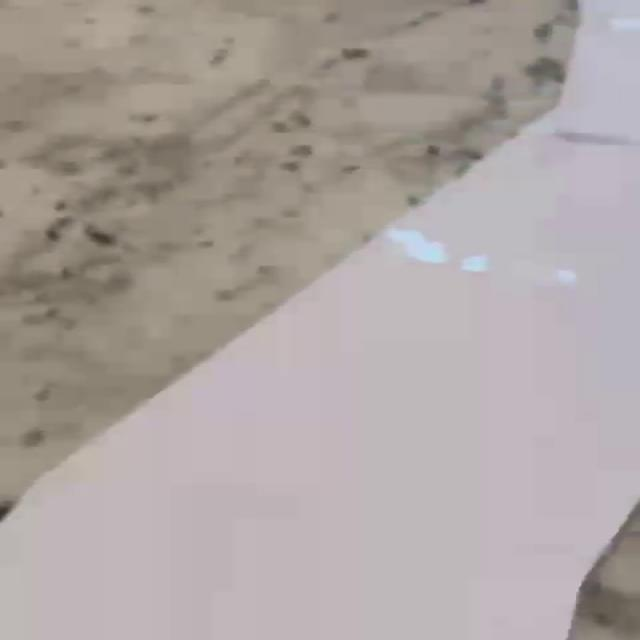road: (0, 0, 640, 640)
